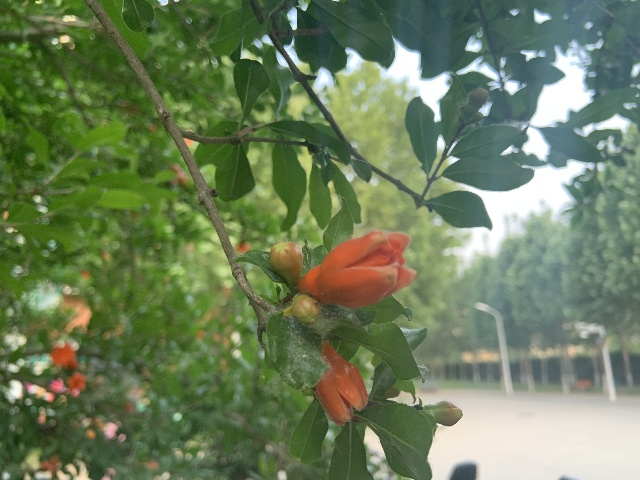bud: (268, 240, 303, 284), (291, 293, 321, 324)
flower: (299, 231, 417, 308), (313, 340, 367, 425), (51, 343, 78, 370), (67, 372, 86, 393)
